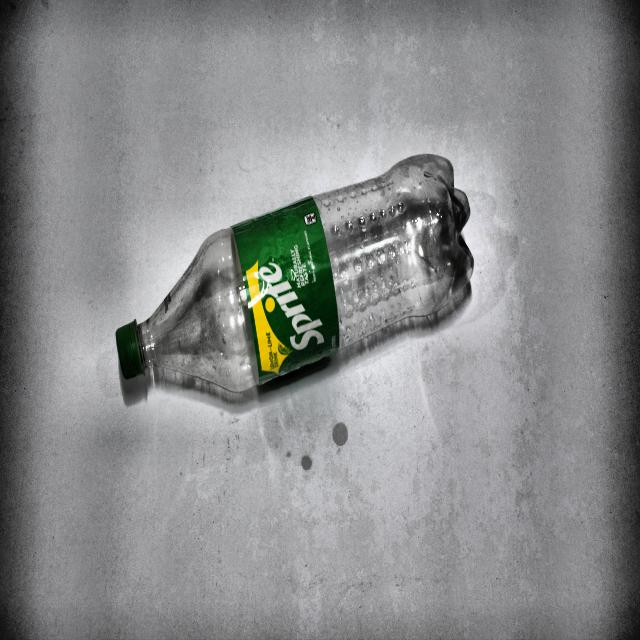Bottles: (111, 150, 478, 402)
